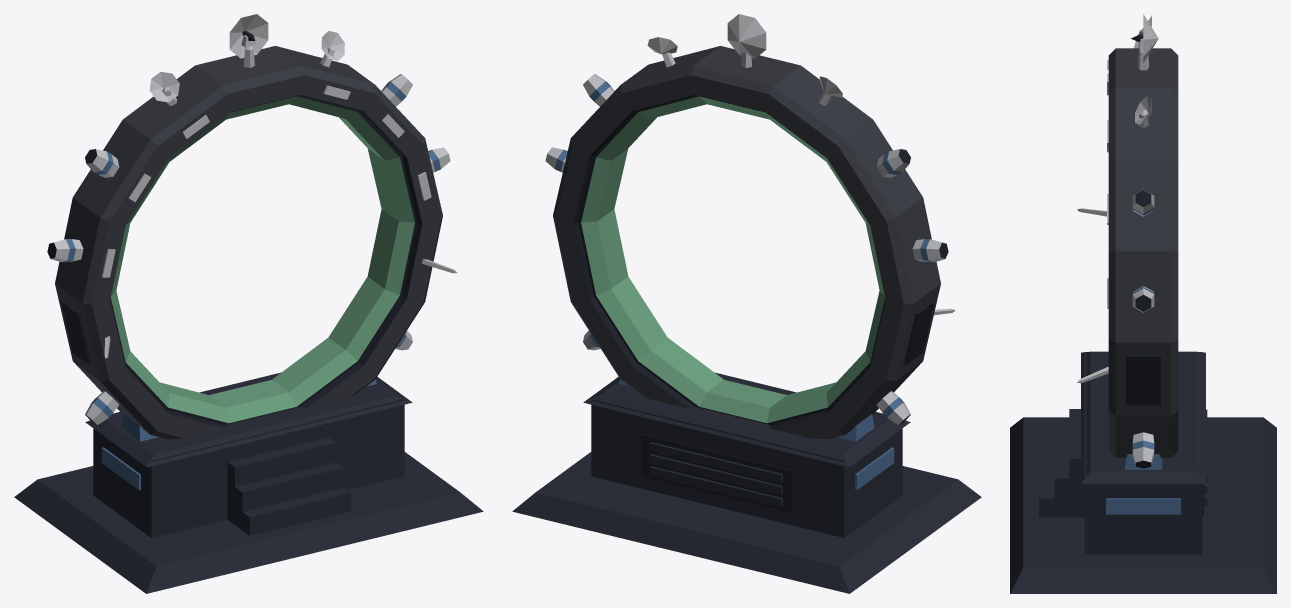
The model's file is warp-gate-b507bf.glb.
3 renders of one model, left to right at view 1: azimuth 30°, elevation 25°; view 2: azimuth 150°, elevation 25°; view 3: azimuth 270°, elevation 25°, orthographic.
Visible parts, largest first — view 1: gate-hull, dish-bowl; view 2: gate-hull, dish-bowl; view 3: gate-hull, dish-bowl.
Boxes of the visible parts, box(x1,y1,x2,y2) form: gate-hull: box(14, 31, 483, 593); dish-bowl: box(229, 14, 268, 58); gate-hull: box(512, 37, 981, 593); dish-bowl: box(727, 14, 766, 58); gate-hull: box(1010, 16, 1276, 593); dish-bowl: box(1131, 14, 1158, 62).
Size of the model in its own units: 10.35 by 12.16 by 5.97.
